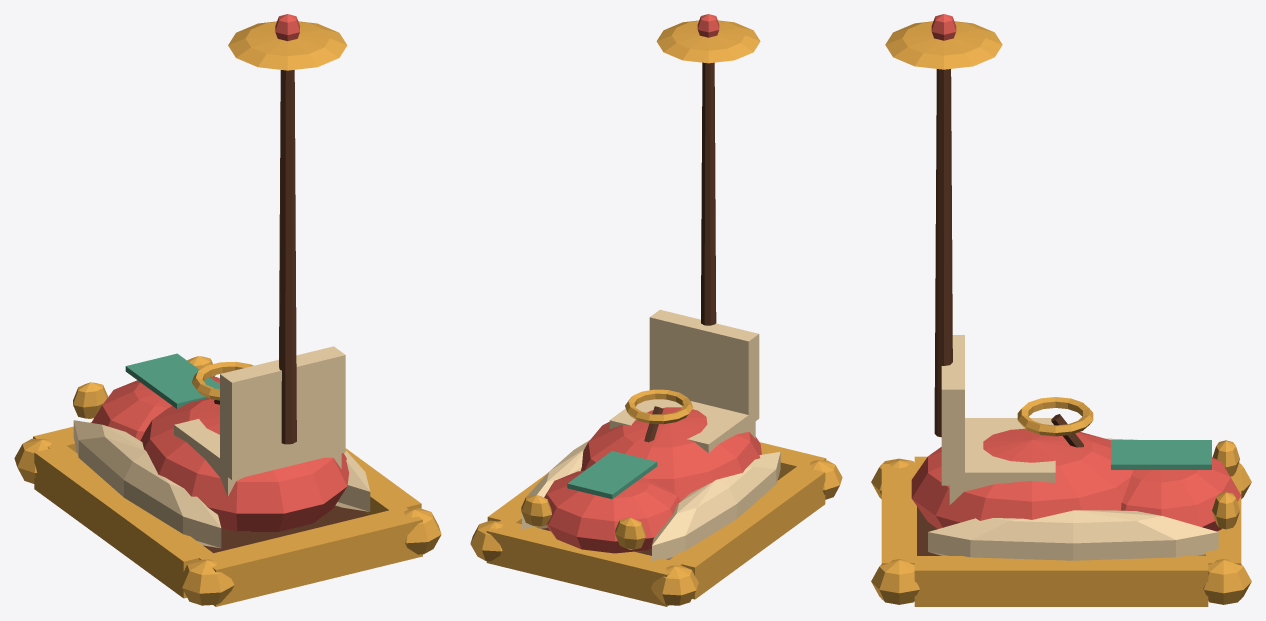
The model's file is ParkParkBumperCar.obj.
3 views of the same model, side by side, from view 1: azimuth 30°, elevation 25°; view 2: azimuth 150°, elevation 25°; view 3: azimuth 270°, elevation 25° (orthographic). The views are drawn at different scales.
Parts seen in each view (by area): view 1: ParkParkBumperCar; view 2: ParkParkBumperCar; view 3: ParkParkBumperCar.
Part boxes in pixels (x1,y1,x2,y2): ParkParkBumperCar: (14,14,441,606); ParkParkBumperCar: (470,14,842,606); ParkParkBumperCar: (871,14,1251,606).
Size of the model in its own units: 2.48 by 5.13 by 3.24.
